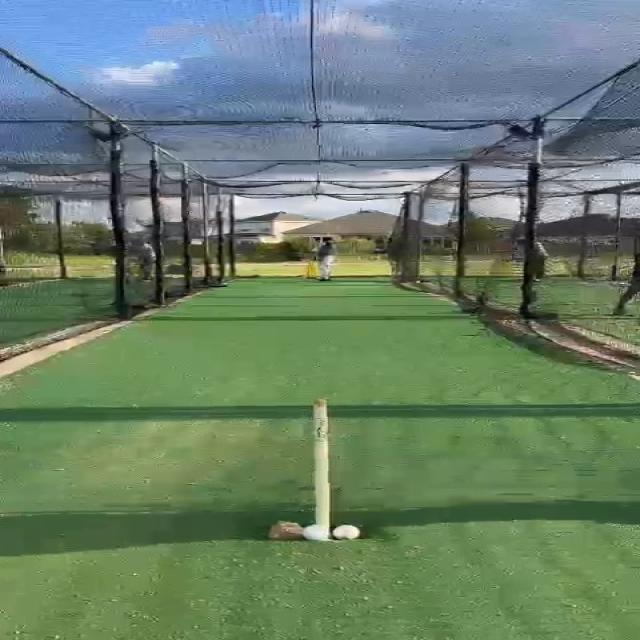batsman: (310, 237, 338, 282)
